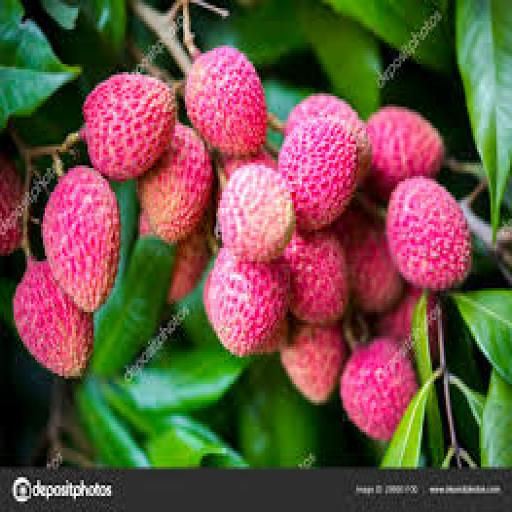lychee: (43, 166, 120, 311), (82, 72, 177, 181), (14, 259, 93, 378), (205, 248, 290, 357), (388, 179, 471, 290), (279, 118, 358, 231), (139, 123, 214, 242), (185, 46, 266, 154), (341, 339, 416, 439), (285, 94, 371, 181), (219, 166, 295, 261), (366, 107, 443, 199), (335, 206, 402, 311), (285, 230, 348, 325), (281, 326, 346, 402), (168, 227, 210, 303), (378, 286, 422, 357), (285, 94, 358, 135), (0, 152, 23, 255), (222, 150, 278, 178), (256, 318, 290, 354)
